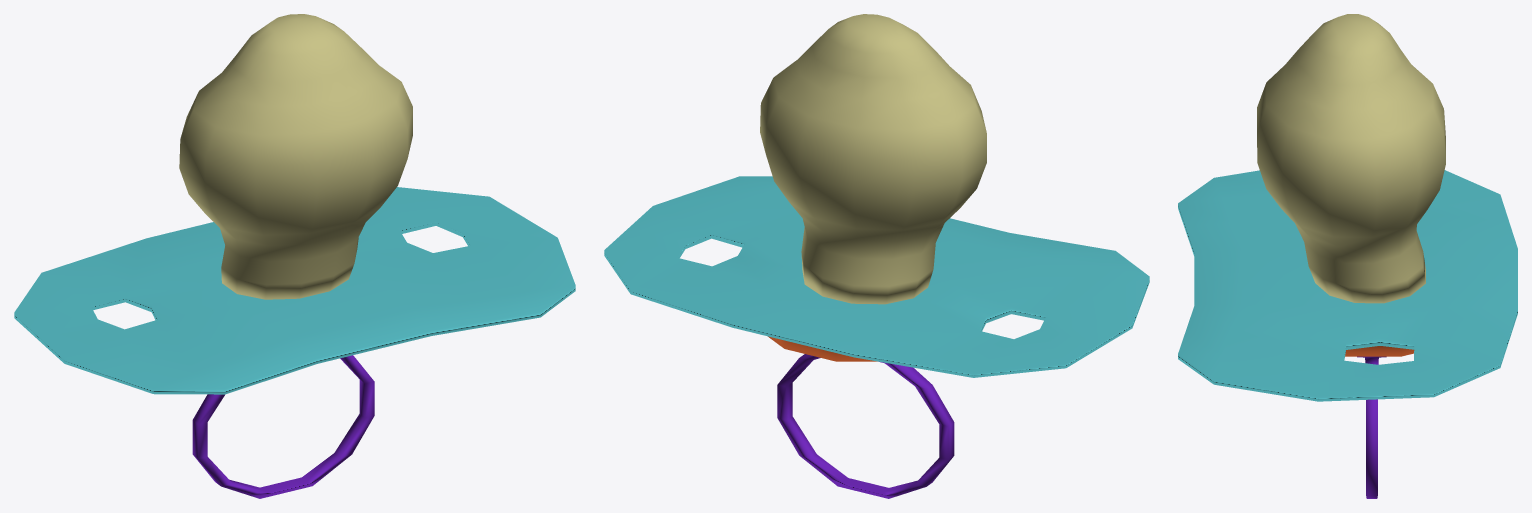
The model's file is dudle.fbx.
The picture shows the model from 3 angles, left to right: view 1: azimuth 30°, elevation 25°; view 2: azimuth 150°, elevation 25°; view 3: azimuth 270°, elevation 25°; orthographic projection. The views are drawn at different scales.
Parts seen in each view (by area): view 1: Cube.001; view 2: Cube.001; view 3: Cube.001.
Boxes of the visible parts, left/top/right/bottom form: Cube.001: left=14, top=14, right=575, bottom=498; Cube.001: left=604, top=14, right=1149, bottom=498; Cube.001: left=1178, top=14, right=1517, bottom=498.
Size of the model in its own units: 2.07 by 1.91 by 1.26.
